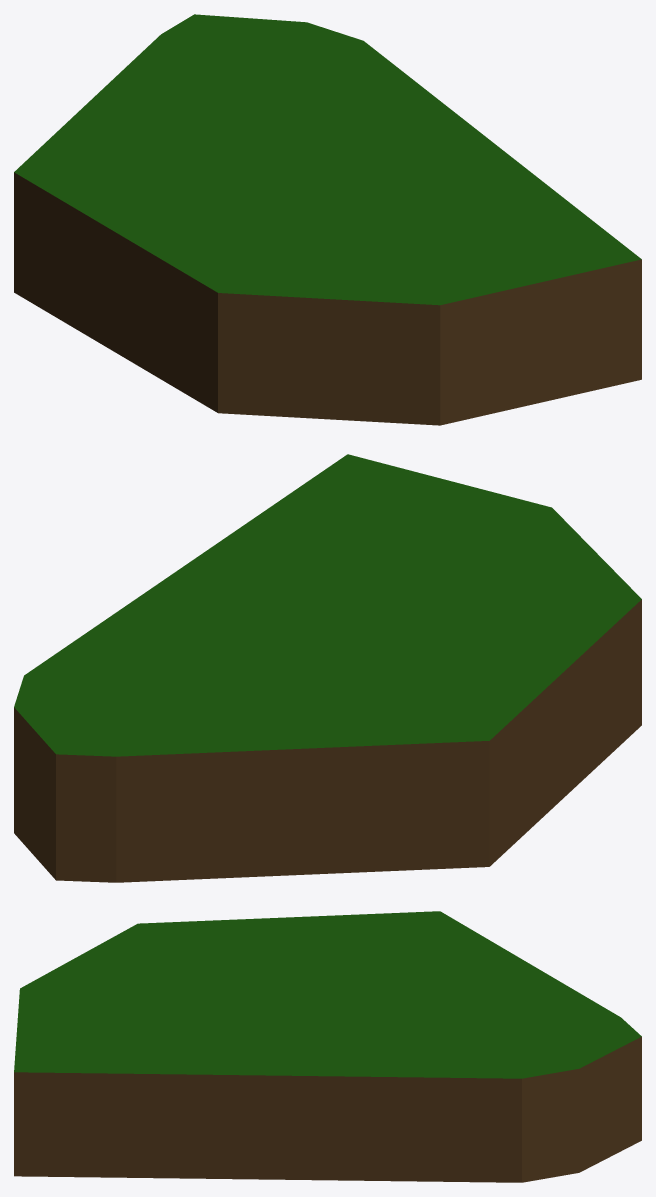
The model's file is Ground2_l.fbx.
3 views of the same model, one above another, from view 1: azimuth 30°, elevation 25°; view 2: azimuth 150°, elevation 25°; view 3: azimuth 270°, elevation 25° (orthographic). The views are drawn at different scales.
Visible parts, largest first — view 1: Cube.004; view 2: Cube.004; view 3: Cube.004.
Boxes of the visible parts, <box> form: Cube.004: <box>14,14,641,425</box>; Cube.004: <box>14,454,641,882</box>; Cube.004: <box>14,911,641,1182</box>.
Bounding box in the file's own units: 167 × 265 × 48.42.
